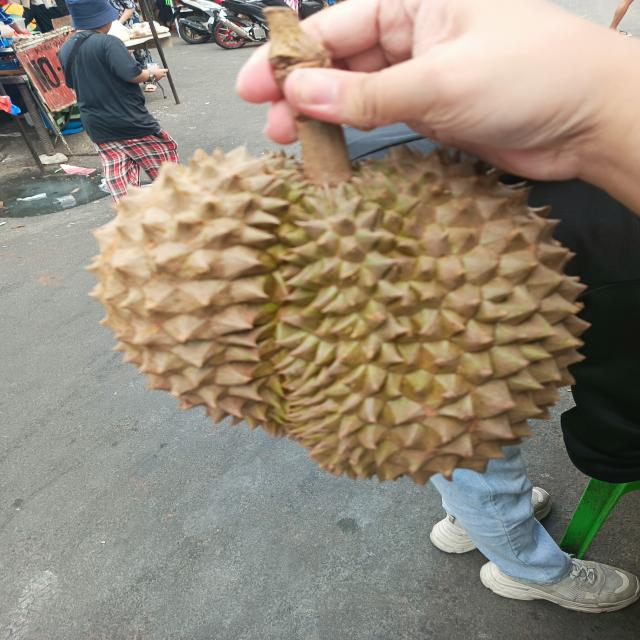mature: (81, 139, 588, 480)
